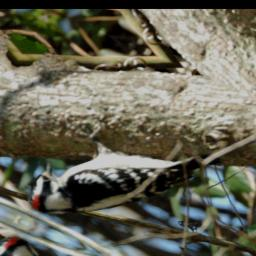Woodpecker: (19, 106, 206, 256)
